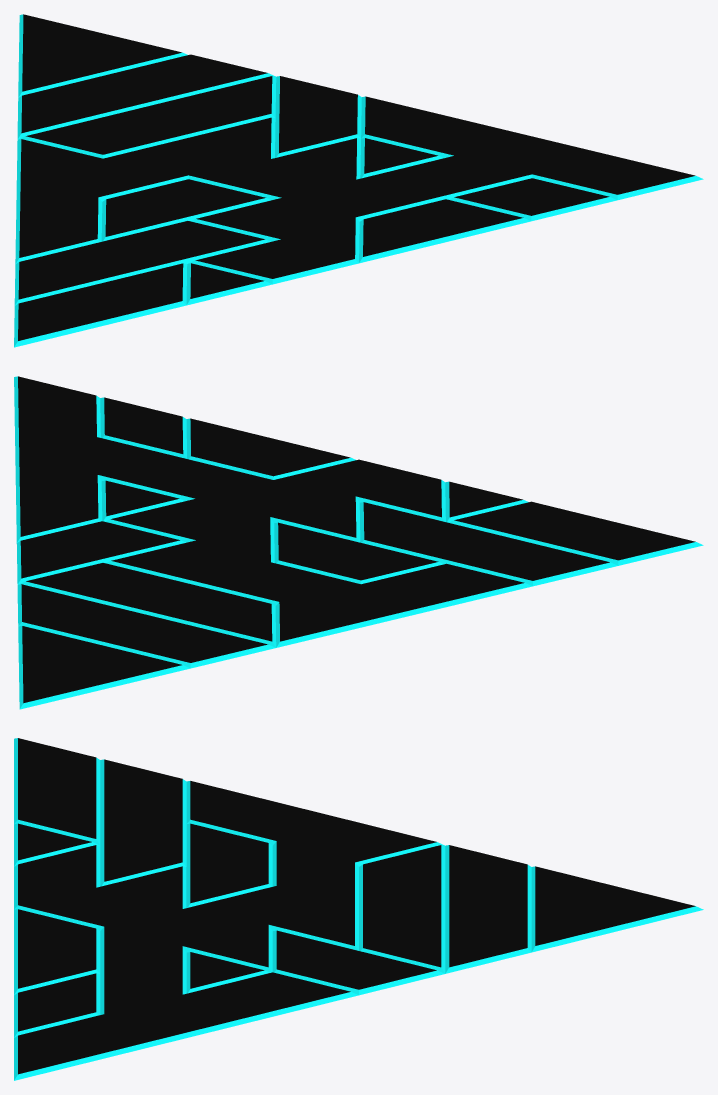
3 renders of one model, top to bottom at view 1: azimuth 30°, elevation 25°; view 2: azimuth 150°, elevation 25°; view 3: azimuth 270°, elevation 25°, orthographic.
Visible parts, largest first — view 1: Cyberpunk Triangle Tile.008; view 2: Cyberpunk Triangle Tile.008; view 3: Cyberpunk Triangle Tile.008.
Boxes of the visible parts, box(x1,y1,x2,y2) form: Cyberpunk Triangle Tile.008: box(14, 14, 703, 347); Cyberpunk Triangle Tile.008: box(14, 376, 703, 709); Cyberpunk Triangle Tile.008: box(14, 738, 703, 1080).
Bounding box in the file's own units: 1.02 × 0.005 × 0.8664.
Materials: 1 (1 with a texture image).
